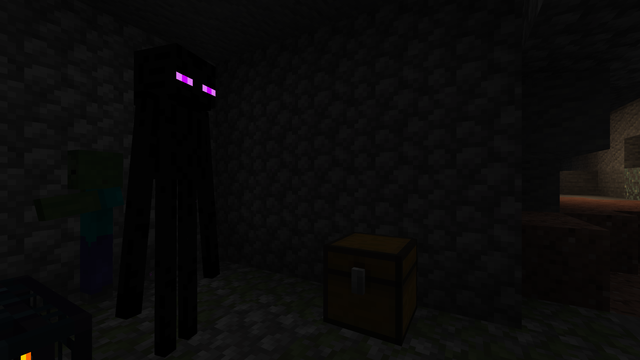endermens: (127, 26, 222, 357)
zombies: (58, 152, 117, 306)
